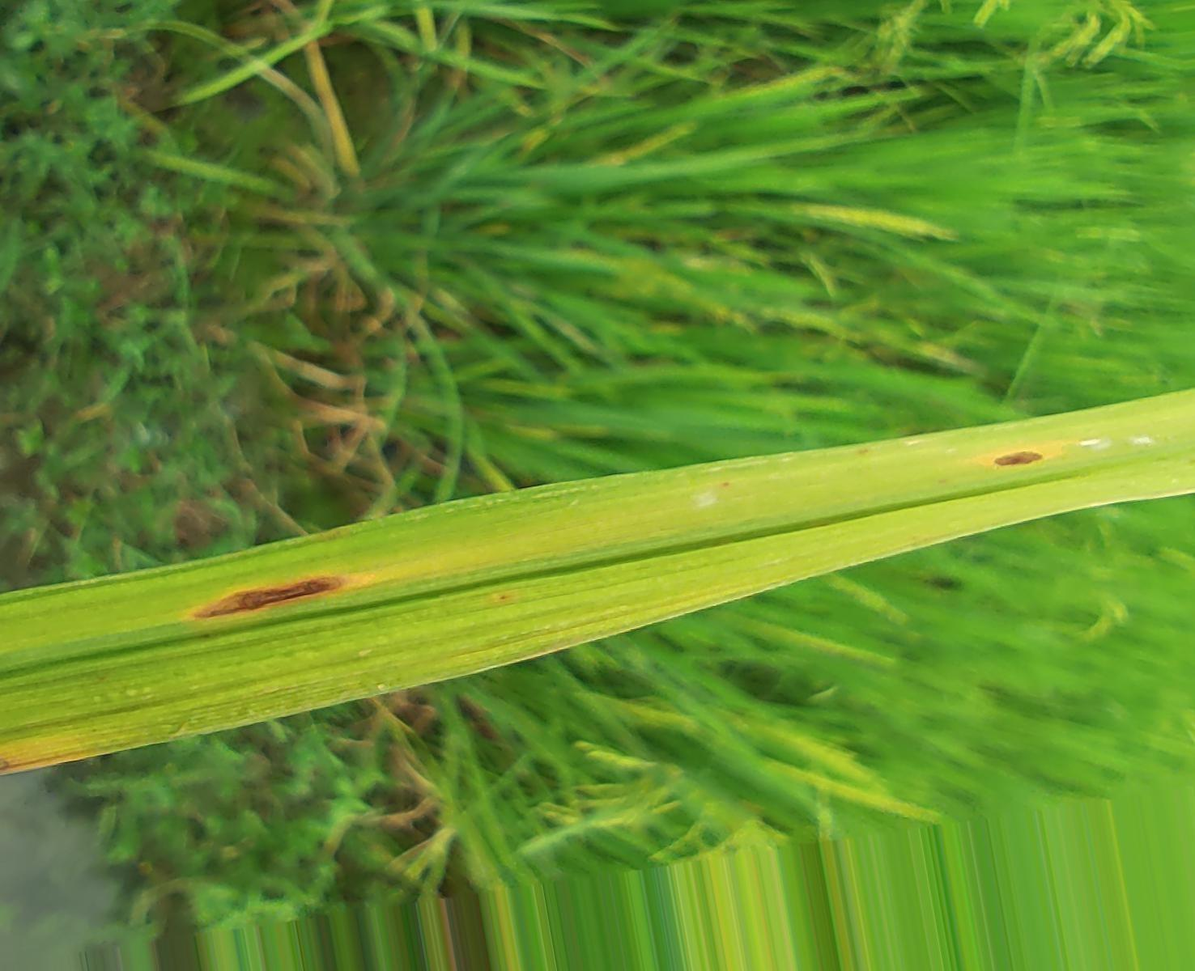LEAF: (0, 390, 1194, 771)
NBS: (186, 575, 376, 626), (977, 442, 1068, 467), (499, 594, 507, 601), (721, 482, 729, 488)
